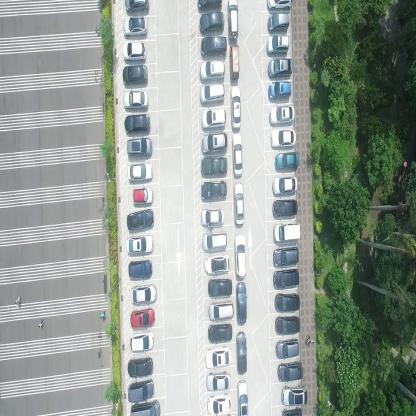car: (205, 344, 232, 368), (128, 378, 155, 402), (126, 137, 152, 160), (199, 82, 225, 105), (204, 252, 230, 275), (202, 131, 228, 154), (206, 392, 232, 415), (273, 244, 300, 266), (127, 208, 154, 230), (276, 361, 304, 382), (235, 232, 247, 280), (202, 230, 227, 253), (126, 162, 152, 184), (199, 60, 225, 82), (208, 300, 234, 322), (274, 220, 300, 242), (127, 234, 154, 255), (273, 268, 300, 289), (281, 384, 308, 405), (130, 330, 154, 353), (199, 10, 224, 32), (202, 107, 227, 129), (208, 321, 233, 343), (130, 306, 155, 328), (123, 90, 149, 111), (202, 180, 228, 201), (122, 16, 148, 37), (128, 355, 154, 376), (269, 104, 295, 125), (270, 127, 296, 148), (274, 291, 300, 312), (123, 114, 150, 134), (131, 283, 158, 303), (208, 276, 232, 298), (268, 56, 292, 78), (232, 133, 244, 177), (275, 337, 299, 359), (122, 40, 147, 61), (273, 173, 298, 194), (122, 64, 148, 84), (230, 82, 241, 128), (201, 206, 225, 227), (201, 157, 229, 175), (206, 369, 230, 390), (128, 258, 153, 278), (275, 314, 300, 334), (130, 400, 161, 416), (233, 181, 244, 226), (201, 36, 227, 55), (275, 150, 298, 171), (272, 199, 298, 217), (266, 34, 289, 54), (227, 0, 238, 41), (237, 328, 247, 373), (132, 184, 153, 205), (237, 281, 247, 325), (268, 11, 290, 31), (237, 380, 249, 416), (268, 80, 290, 99), (230, 42, 240, 80), (124, 0, 149, 13), (196, 0, 223, 11), (266, 0, 292, 9)
